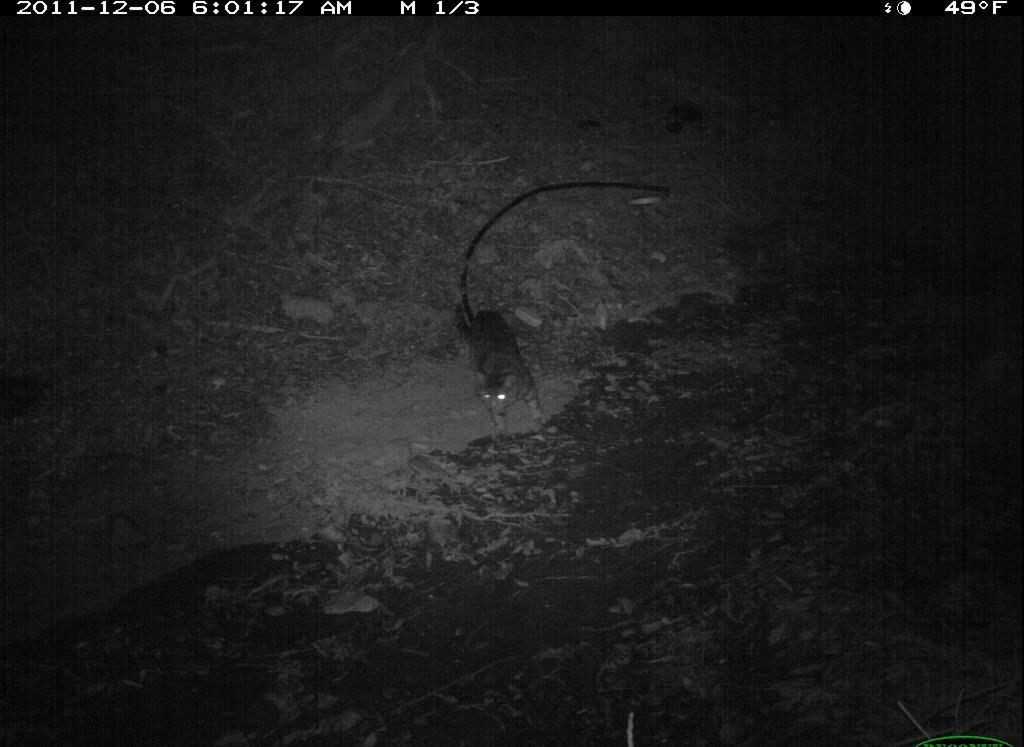cat: (447, 294, 553, 441)
